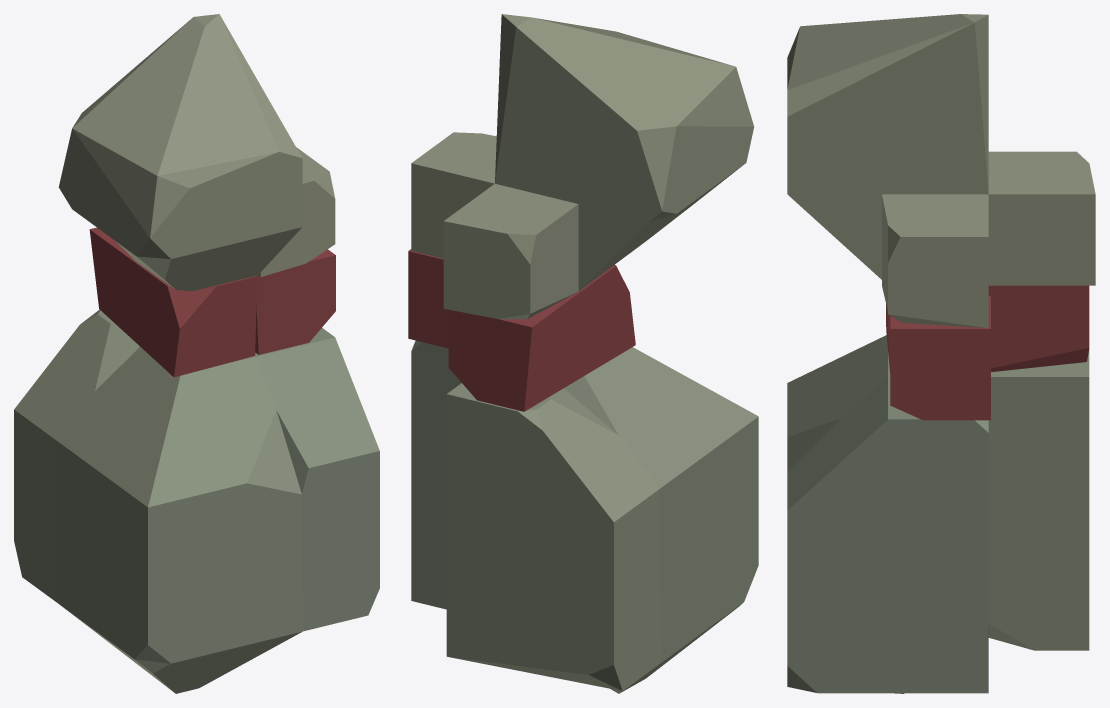
File: railing_corner_small_conv.fbx
3 views of the same model, side by side, from view 1: azimuth 30°, elevation 25°; view 2: azimuth 150°, elevation 25°; view 3: azimuth 270°, elevation 25° (orthographic). The views are drawn at different scales.
Visible parts, largest first — view 1: railing_corner_small_conv; view 2: railing_corner_small_conv; view 3: railing_corner_small_conv.
Boxes of the visible parts, x1,y1,x2,y2 form: railing_corner_small_conv: [14, 14, 379, 693]; railing_corner_small_conv: [408, 14, 758, 693]; railing_corner_small_conv: [787, 14, 1095, 693].
Bounding box in the file's own units: 75.58 × 196 × 76.53.
